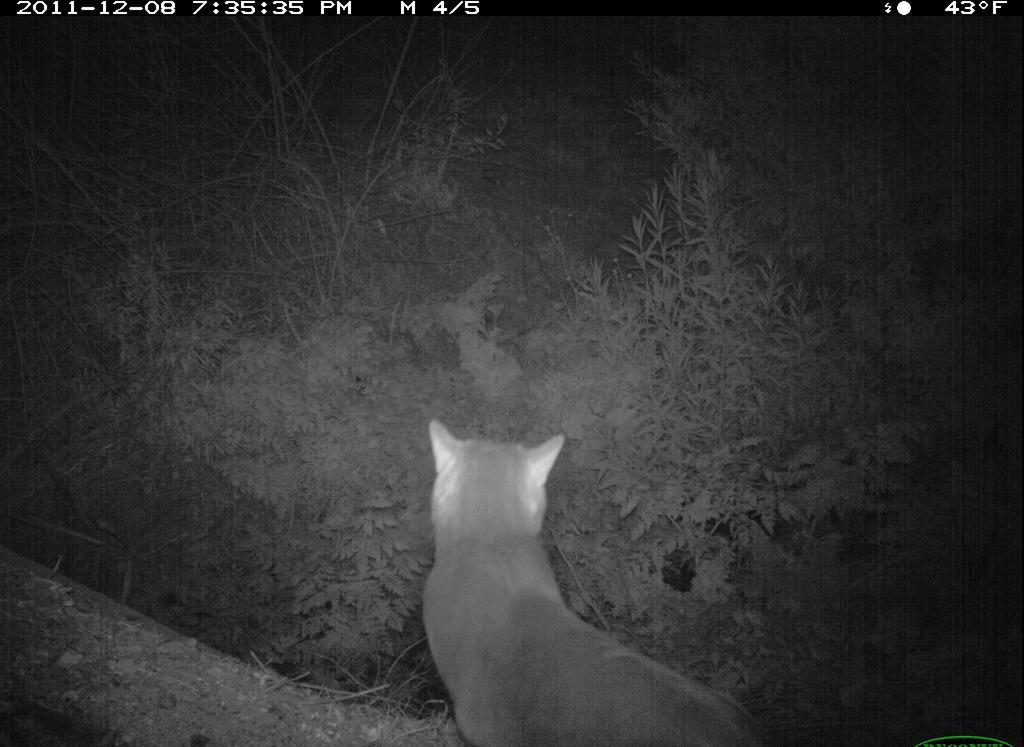cat: (417, 413, 794, 747)
